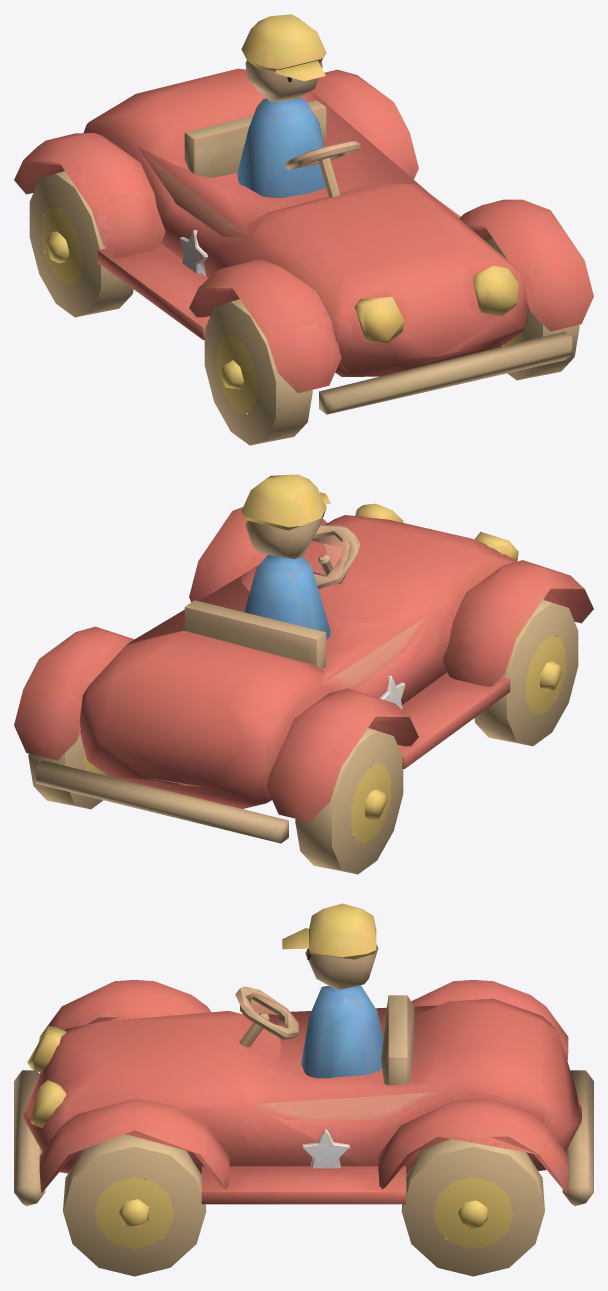
Rendered from g3d_toy_car.glb.
The picture shows the model from 3 angles, top to bottom: view 1: azimuth 30°, elevation 25°; view 2: azimuth 150°, elevation 25°; view 3: azimuth 270°, elevation 25°; orthographic projection. The views are drawn at different scales.
Visible parts, largest first — view 1: toy-car_body, toy-car_body_lo, toy-car_wheel_front_l, toy-car_wheel_front_l_lo; view 2: toy-car_body, toy-car_body_lo, toy-car_wheel_front_l, toy-car_wheel_front_l_lo; view 3: toy-car_body, toy-car_wheel_front_l, toy-car_body_lo, toy-car_wheel_front_l_lo.
Part boxes in pixels (x1,y1,x2,y2): toy-car_body: [14, 14, 593, 414]; toy-car_body_lo: [97, 67, 571, 396]; toy-car_wheel_front_l: [29, 171, 579, 445]; toy-car_wheel_front_l_lo: [29, 179, 536, 440]; toy-car_body: [14, 474, 593, 843]; toy-car_body_lo: [36, 513, 510, 825]; toy-car_wheel_front_l: [28, 600, 578, 874]; toy-car_wheel_front_l_lo: [84, 603, 578, 873]; toy-car_body: [14, 903, 593, 1206]; toy-car_wheel_front_l: [63, 1134, 544, 1276]; toy-car_body_lo: [22, 949, 585, 1204]; toy-car_wheel_front_l_lo: [96, 1147, 544, 1267].
Size of the model in its own units: 0.1014 by 0.0881 by 0.1575.
Materials: 3 (1 with a texture image).
